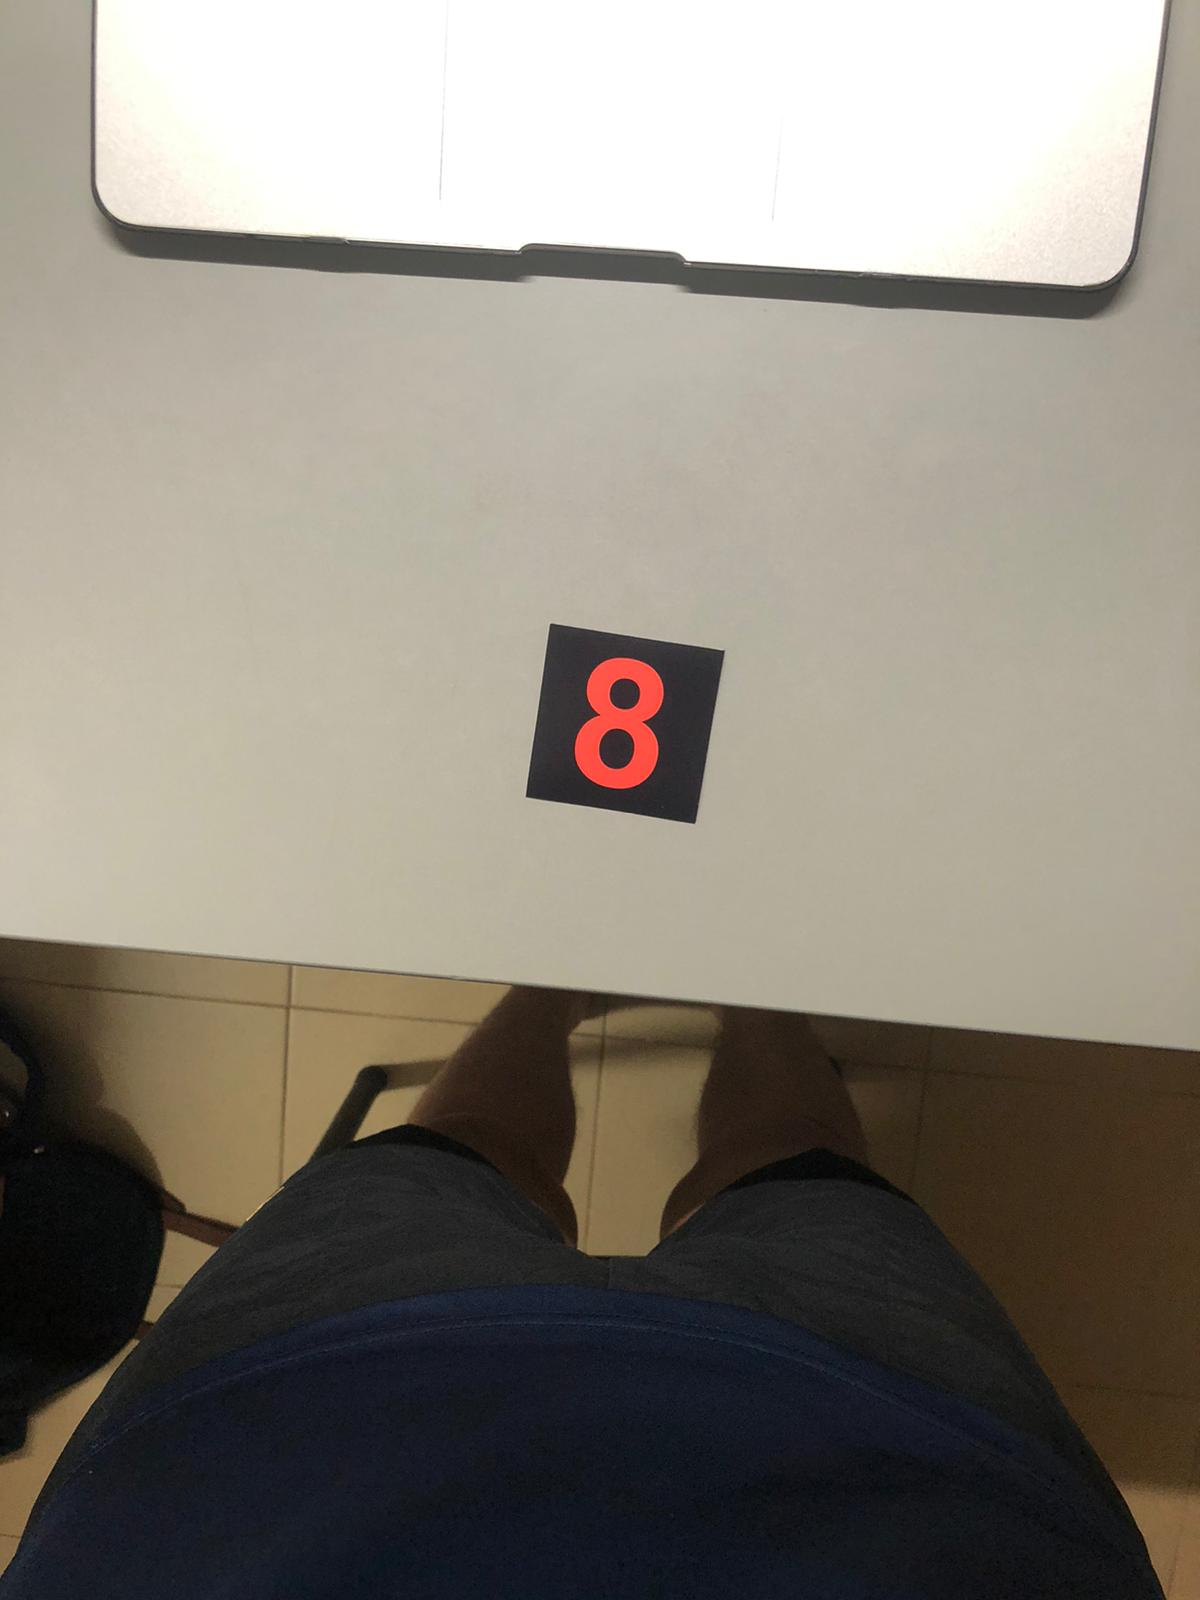Number 8: (532, 622, 718, 829)
